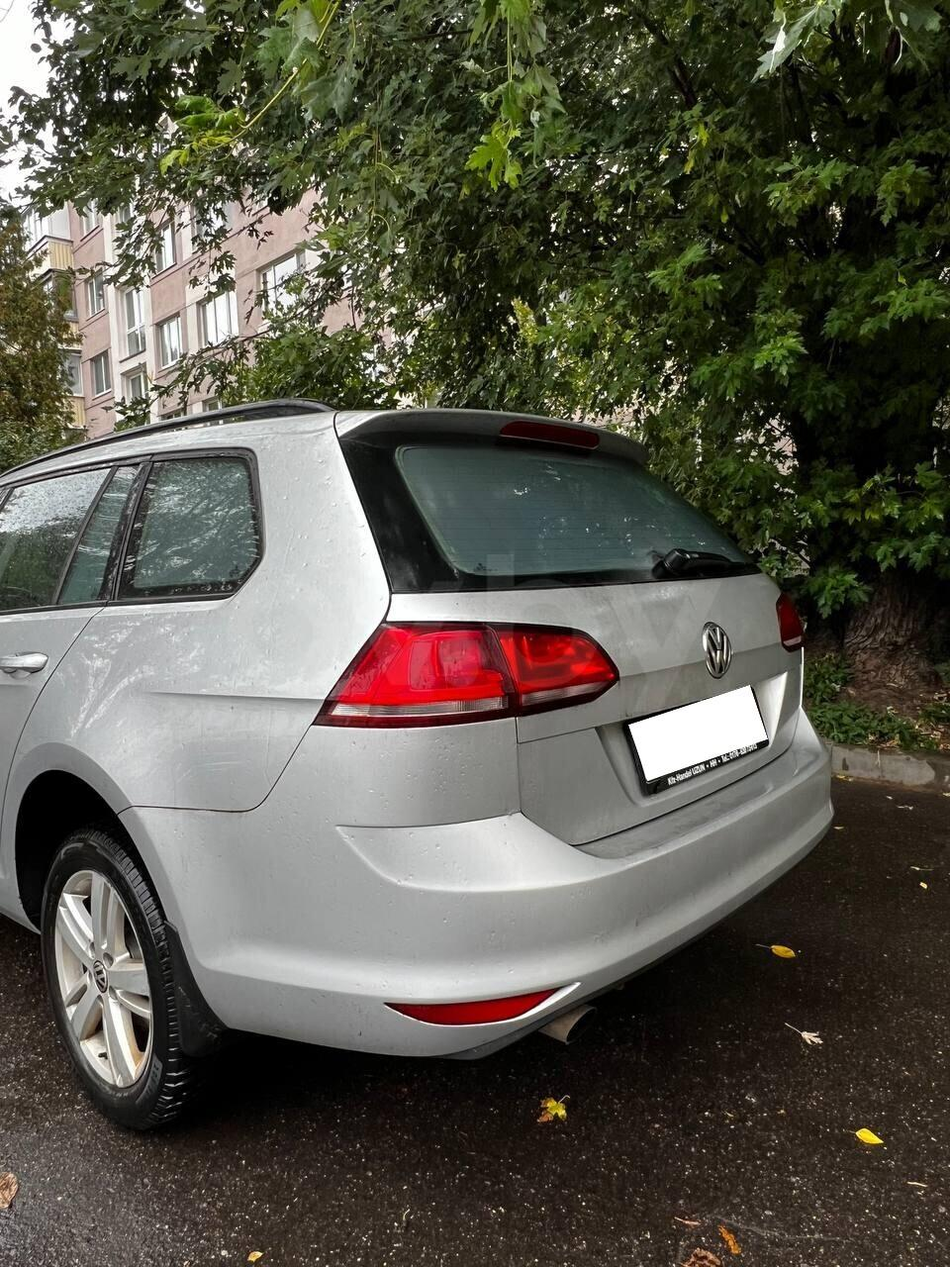Golf_2012-2017: (0, 396, 863, 1120)
